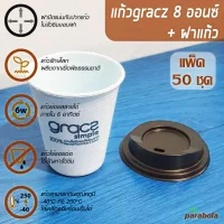paper_cup: (20, 46, 129, 182)
